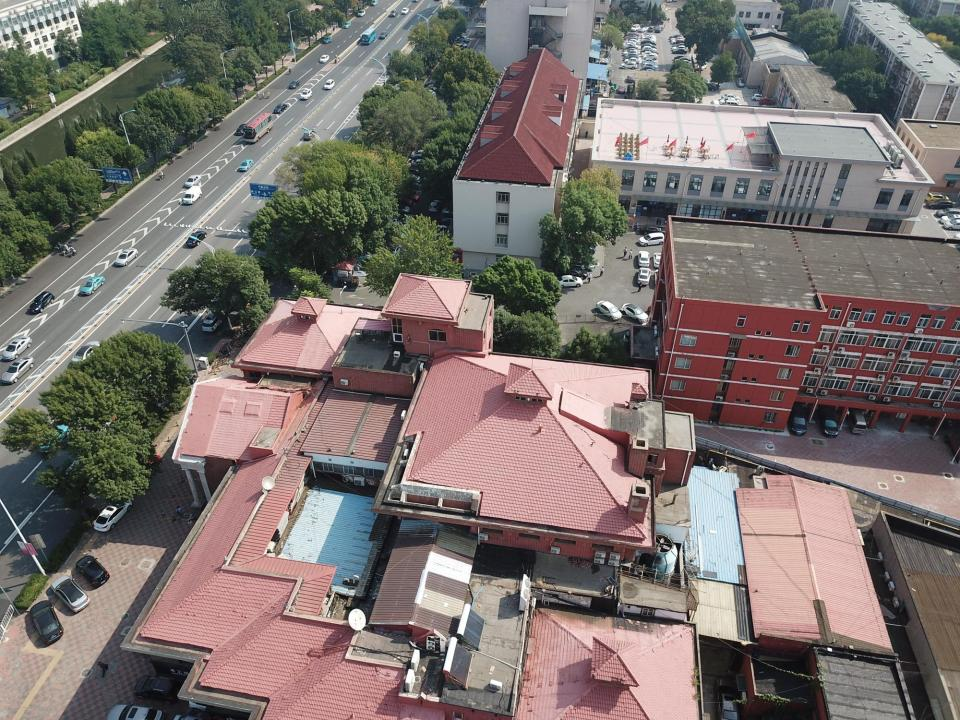bus: (244, 113, 273, 143), (362, 27, 376, 44)
car: (29, 599, 64, 646), (49, 574, 90, 614), (92, 494, 133, 532), (134, 675, 183, 705), (74, 554, 110, 589), (35, 424, 70, 455), (104, 702, 163, 720), (1, 354, 35, 384), (714, 684, 738, 720), (71, 341, 102, 368), (3, 336, 33, 361), (817, 406, 839, 438), (620, 303, 649, 324), (29, 291, 55, 314), (788, 404, 806, 436), (203, 309, 225, 334), (596, 300, 622, 321), (80, 275, 104, 296), (115, 248, 138, 268), (564, 257, 594, 271), (554, 274, 583, 288), (560, 266, 588, 280), (640, 223, 668, 236), (186, 230, 207, 246), (924, 192, 950, 204), (926, 199, 954, 210), (935, 207, 960, 218), (654, 269, 667, 289), (638, 267, 651, 285), (939, 214, 960, 225), (637, 251, 650, 267), (698, 82, 718, 92), (653, 252, 665, 268), (943, 219, 960, 230), (239, 159, 253, 172), (300, 88, 312, 101), (237, 123, 249, 135), (758, 98, 776, 106), (274, 103, 287, 114), (720, 94, 740, 101), (720, 98, 738, 105), (752, 94, 768, 101), (697, 60, 708, 70), (324, 79, 334, 89), (629, 24, 641, 32), (319, 54, 329, 63), (617, 84, 626, 94), (736, 77, 744, 88), (638, 26, 650, 33), (289, 80, 299, 88), (702, 77, 710, 86), (323, 37, 333, 43), (343, 22, 351, 29), (626, 75, 634, 82), (655, 27, 664, 33), (380, 31, 387, 38), (648, 26, 655, 33), (357, 10, 365, 16), (371, 0, 379, 6), (390, 9, 396, 17), (401, 8, 408, 14)
van: (846, 408, 866, 436), (637, 232, 665, 247), (183, 186, 201, 205), (185, 174, 201, 188), (725, 100, 741, 108), (304, 130, 316, 140), (709, 100, 719, 111)
